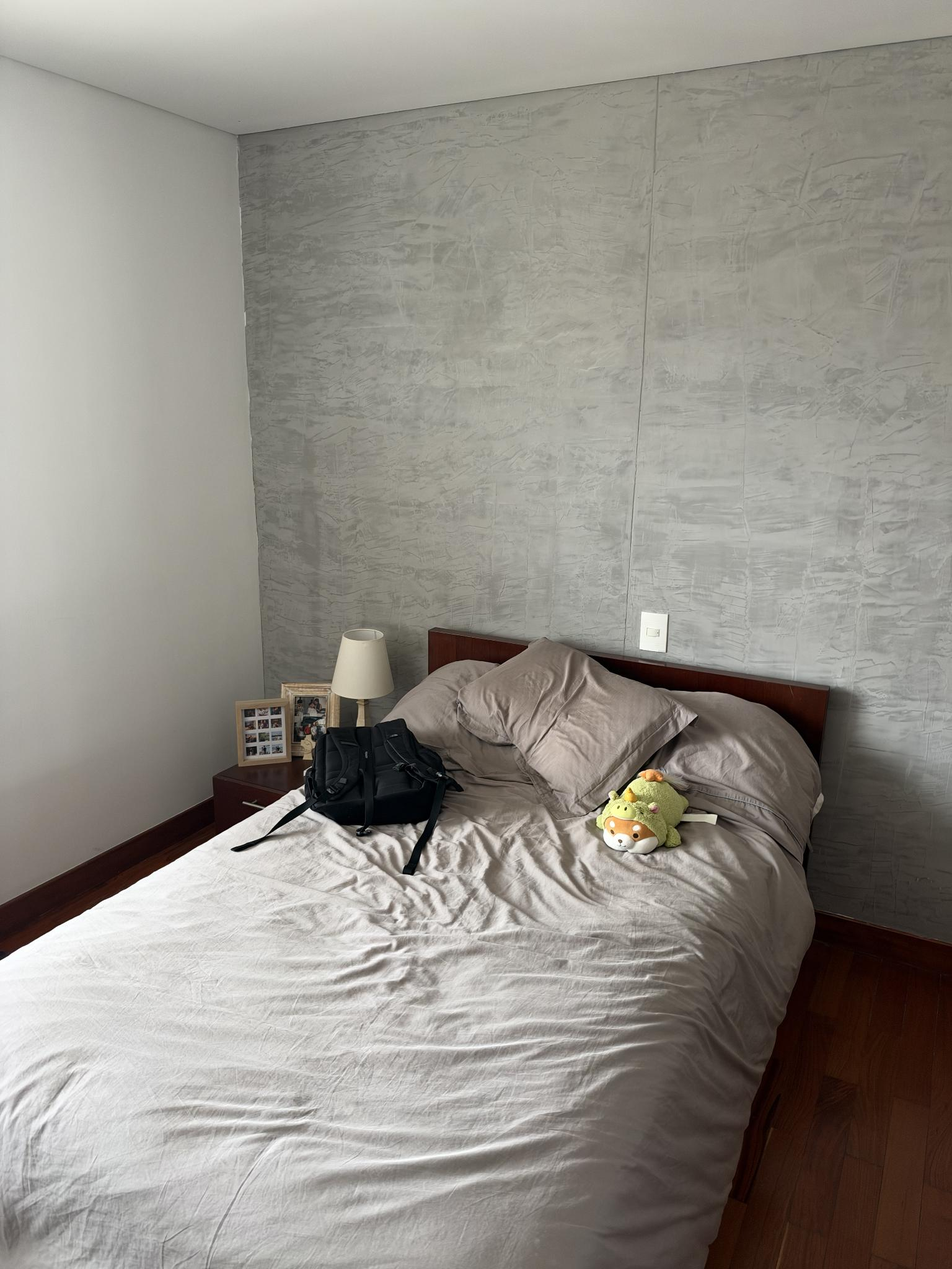peluche_martin: (596, 769, 690, 854)
